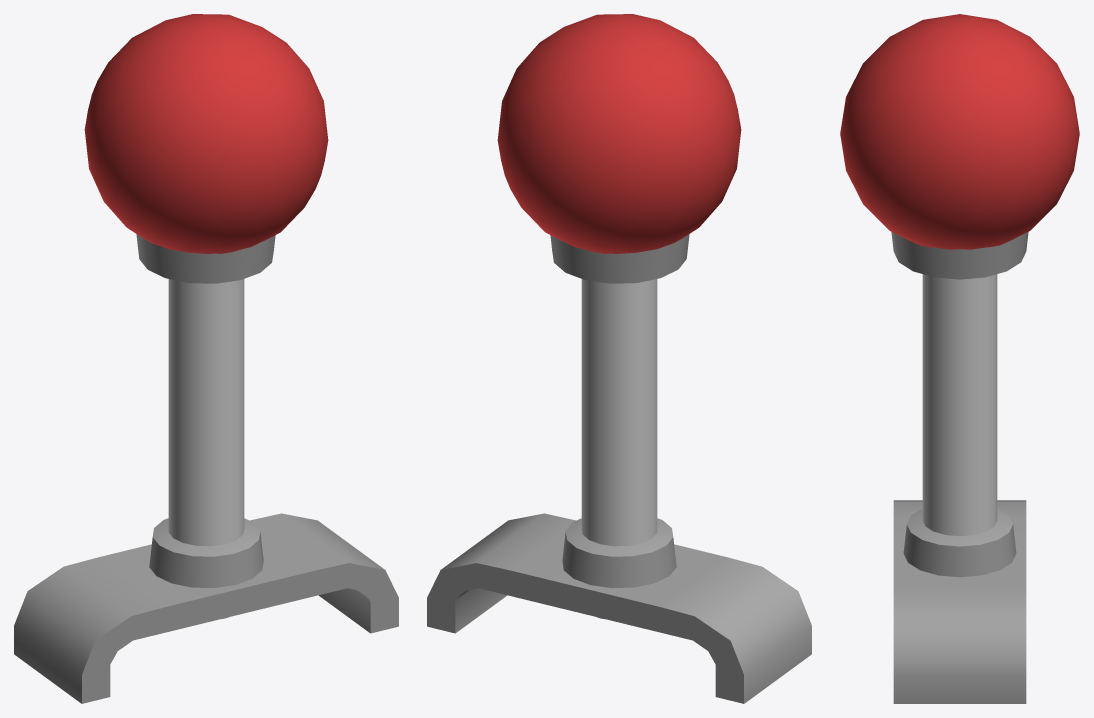
The model's file is LS_Arm_003m.fbx.
The picture shows the model from 3 angles, left to right: view 1: azimuth 30°, elevation 25°; view 2: azimuth 150°, elevation 25°; view 3: azimuth 270°, elevation 25°; orthographic projection. The views are drawn at different scales.
Visible parts, largest first — view 1: LS_Arm_003m; view 2: LS_Arm_003m; view 3: LS_Arm_003m.
Boxes of the visible parts, x1,y1,x2,y2 form: LS_Arm_003m: (14, 14, 398, 703); LS_Arm_003m: (427, 14, 811, 703); LS_Arm_003m: (840, 14, 1079, 703).
Bounding box in the file's own units: 96.73 × 180 × 64.73.
